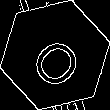O_NE: (22, 22, 88, 88)
